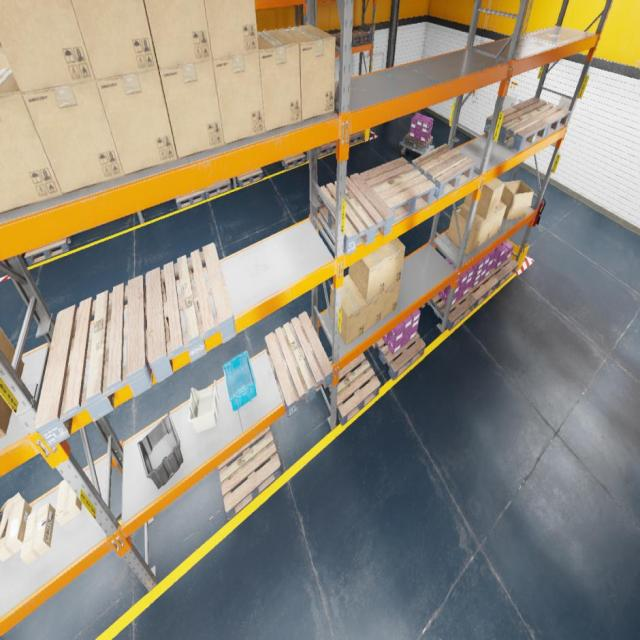box: (21, 80, 125, 194), (96, 51, 178, 175), (0, 68, 63, 214), (0, 0, 95, 92), (71, 0, 158, 80), (159, 59, 225, 158), (278, 24, 335, 120), (213, 51, 266, 144), (144, 0, 212, 68), (257, 30, 301, 132), (204, 0, 259, 59), (0, 327, 24, 438), (331, 274, 366, 346), (0, 492, 32, 562), (20, 502, 55, 564), (349, 248, 388, 302), (349, 276, 384, 332), (448, 203, 486, 254), (464, 178, 504, 219), (464, 203, 496, 246), (500, 180, 534, 220), (381, 237, 405, 290), (55, 479, 82, 526), (382, 280, 401, 319), (489, 201, 506, 239), (0, 42, 10, 68)
pallets: (34, 275, 152, 447), (146, 242, 236, 382), (265, 312, 333, 418), (317, 173, 393, 255), (218, 426, 281, 520), (360, 157, 436, 223), (328, 352, 380, 426), (412, 143, 475, 200), (484, 107, 549, 151), (372, 332, 426, 381), (512, 97, 571, 137), (426, 291, 476, 331), (24, 236, 71, 266), (468, 273, 498, 308), (490, 256, 518, 288), (176, 189, 206, 209), (404, 132, 433, 152), (204, 179, 232, 198), (235, 168, 262, 187), (280, 153, 306, 170), (304, 144, 330, 158), (352, 29, 371, 45), (331, 33, 352, 47), (350, 131, 364, 146), (328, 141, 337, 153), (159, 66, 161, 79)
